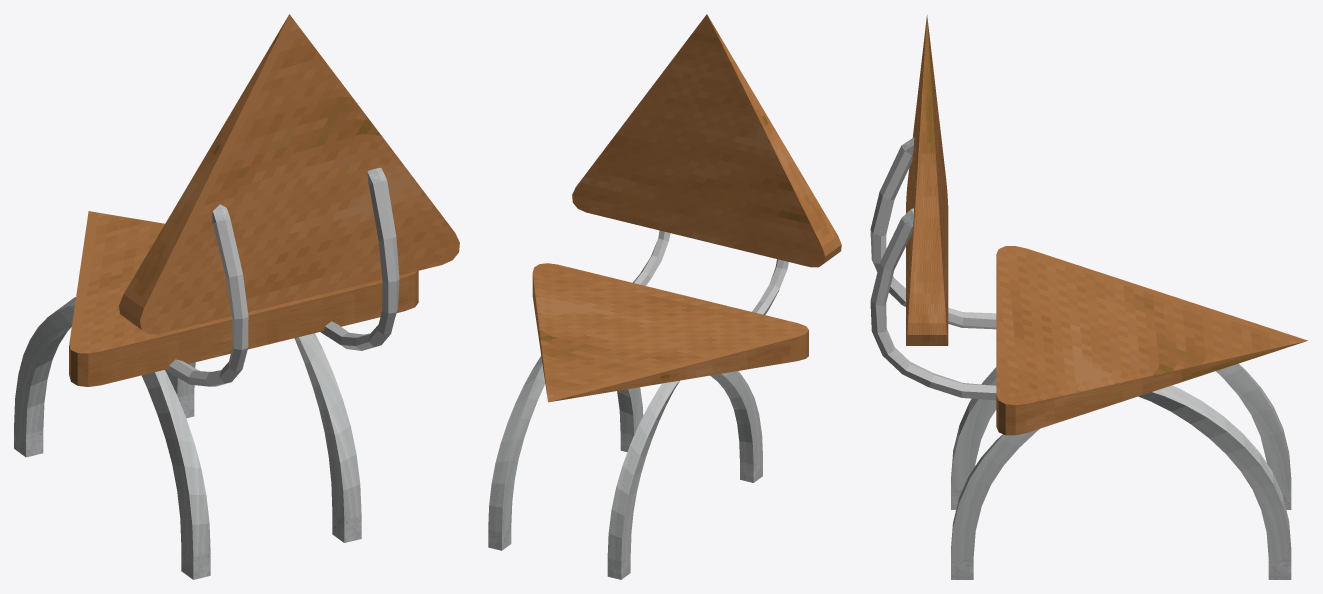
Rendered from Sedia_Triangolo_1.fbx.
The picture shows the model from 3 angles, left to right: view 1: azimuth 30°, elevation 25°; view 2: azimuth 150°, elevation 25°; view 3: azimuth 270°, elevation 25°; orthographic projection. The views are drawn at different scales.
Parts seen in each view (by area): view 1: Cube.075; view 2: Cube.075; view 3: Cube.075.
Boxes of the visible parts, <box> form: Cube.075: <box>14,14,459,579</box>; Cube.075: <box>488,14,841,579</box>; Cube.075: <box>870,15,1307,579</box>.
Size of the model in its own units: 0.9555 by 1.47 by 1.11.
2 materials, 2 textured.
